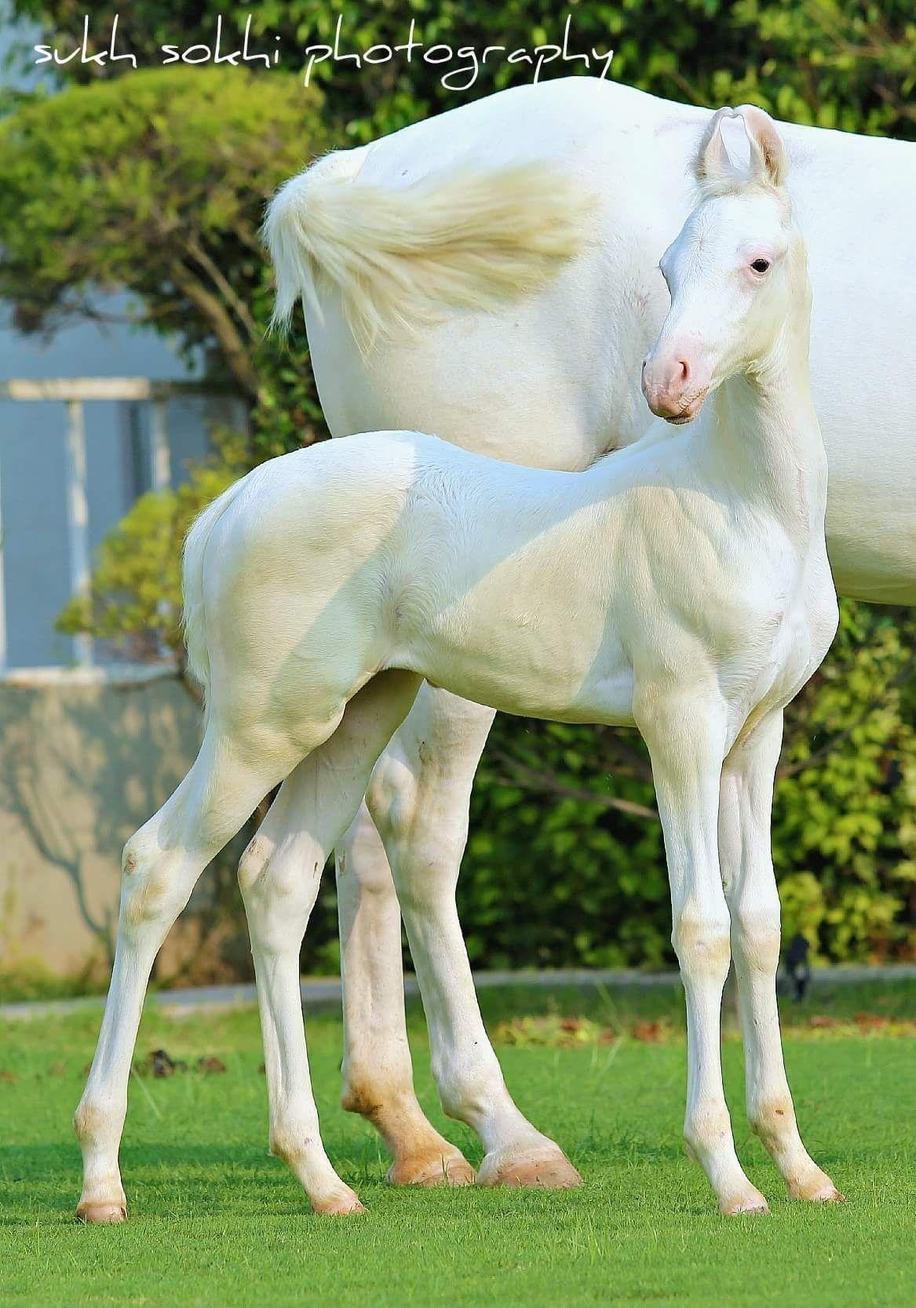horse: (72, 77, 850, 1223)
